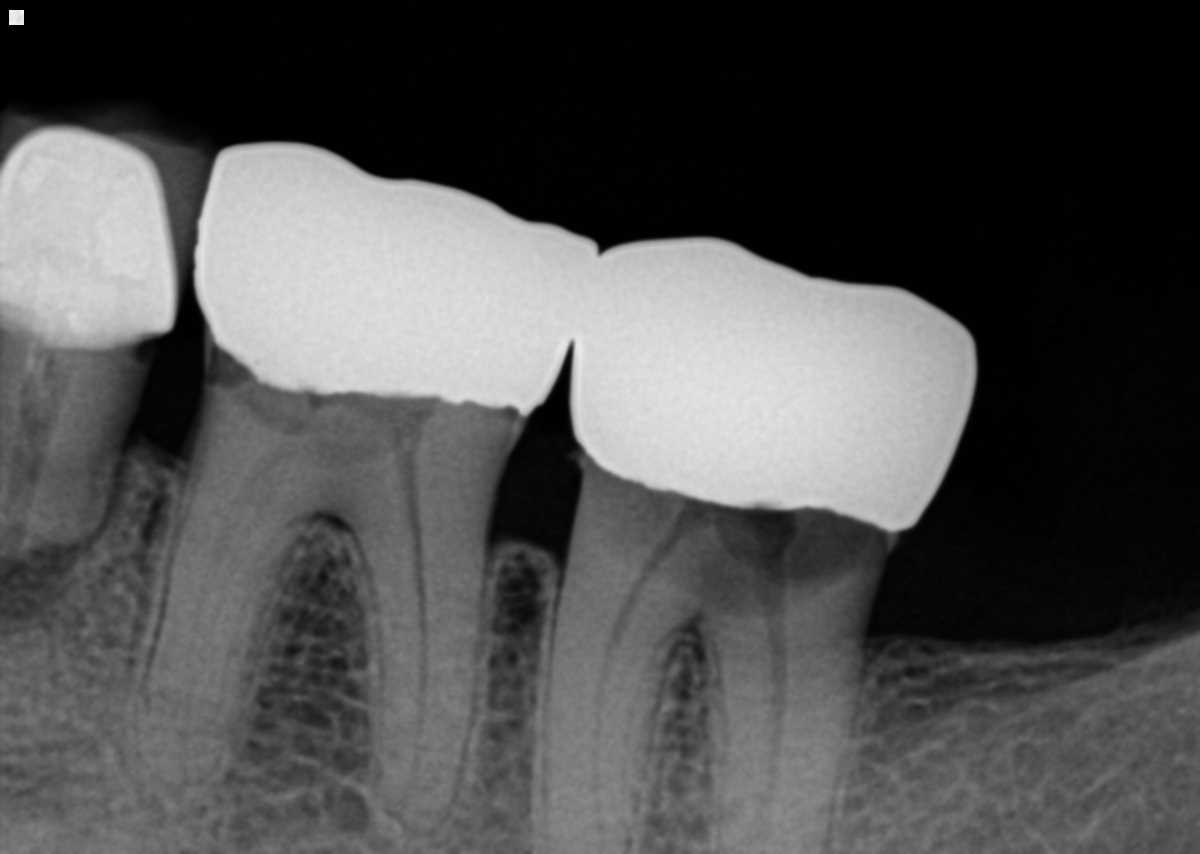Apical Lesion: (0, 548, 82, 619)
Distal Canal: (756, 637, 787, 853), (409, 538, 429, 820)
Distal Root: (354, 528, 483, 830), (706, 633, 864, 854)
Main Canal: (4, 357, 87, 556)
Main Root: (0, 339, 149, 562)
Mesial Canal: (590, 588, 650, 845)
Mesial Root: (131, 443, 316, 789), (533, 535, 701, 854), (178, 506, 256, 751)
decay: (209, 347, 433, 435)
